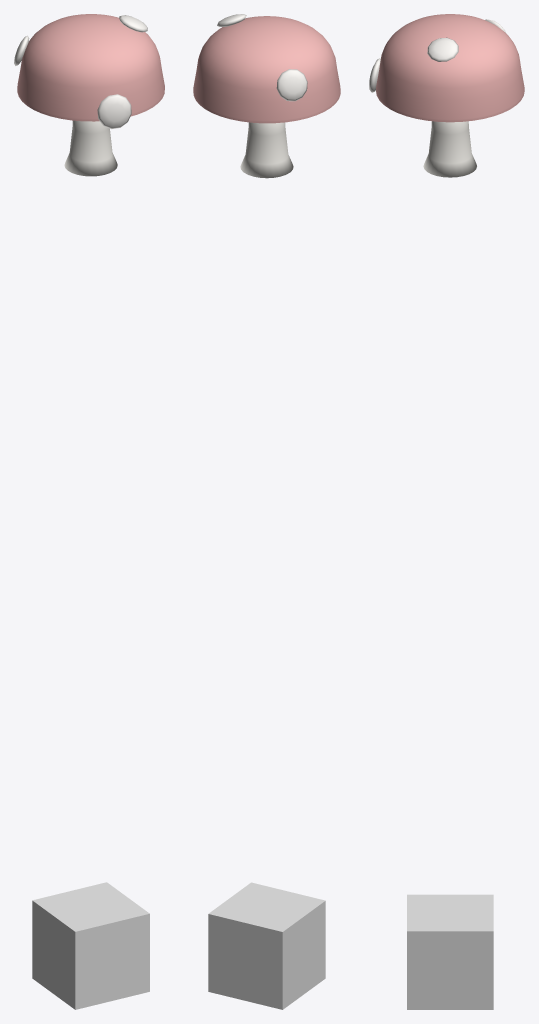
The model's file is PaddenstoelKlein.fbx.
The picture shows the model from 3 angles, left to right: view 1: azimuth 30°, elevation 25°; view 2: azimuth 150°, elevation 25°; view 3: azimuth 270°, elevation 25°; orthographic projection.
Parts seen in each view (by area): view 1: anker_0, hoed_0, steel_0, stip_0; view 2: anker_0, hoed_0, steel_0, stip_0; view 3: hoed_0, anker_0, steel_0, stip_0.
Part boxes in pixels (box(x1,y1,x2,y2)): anker_0: box(32, 882, 149, 1009); hoed_0: box(17, 14, 164, 121); steel_0: box(64, 120, 117, 176); stip_0: box(14, 15, 147, 129); anker_0: box(208, 882, 325, 1009); hoed_0: box(193, 16, 340, 123); steel_0: box(240, 122, 293, 178); stip_0: box(217, 14, 307, 101); hoed_0: box(376, 14, 524, 122); anker_0: box(407, 894, 493, 1009); steel_0: box(423, 121, 476, 177); stip_0: box(369, 19, 505, 92).
Size of the model in its own units: 0.3432 by 2.46 by 0.3584.
